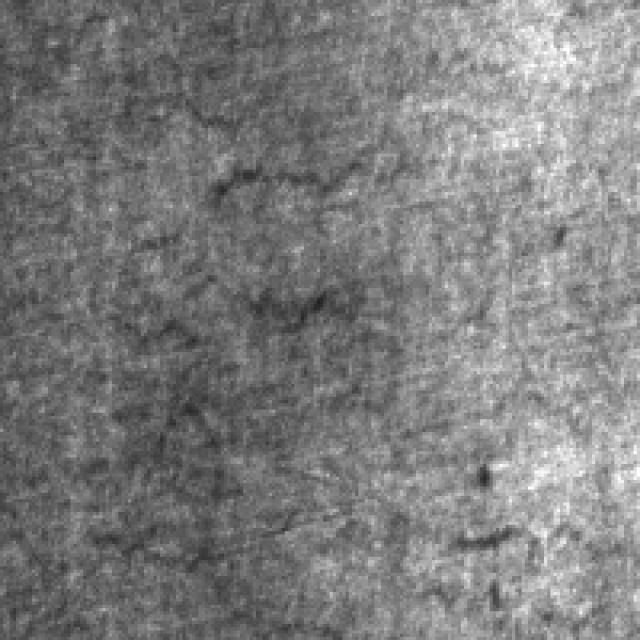crazing: (77, 150, 368, 356), (84, 394, 326, 634)
